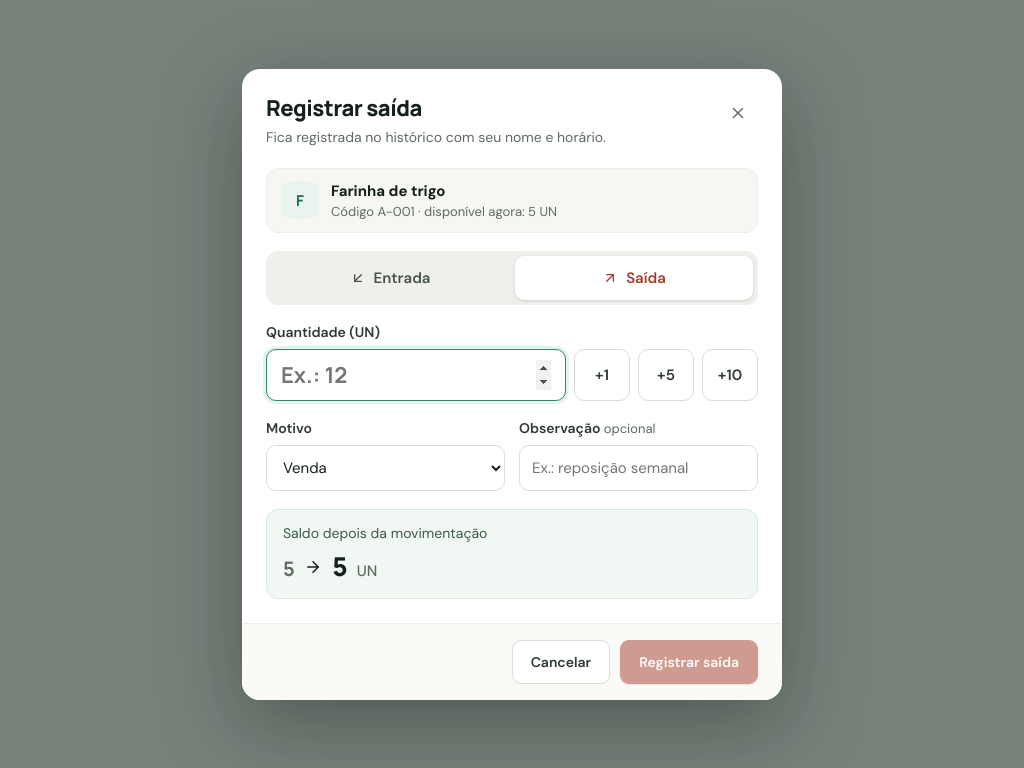
Scenario: MovementModal › mostra a prévia do saldo e bloqueia saída maior que o disponível
Type "3" into the number field labelled "Quantidade (UN) +1 +5 +10" at (416, 374), box [266, 348, 566, 400]
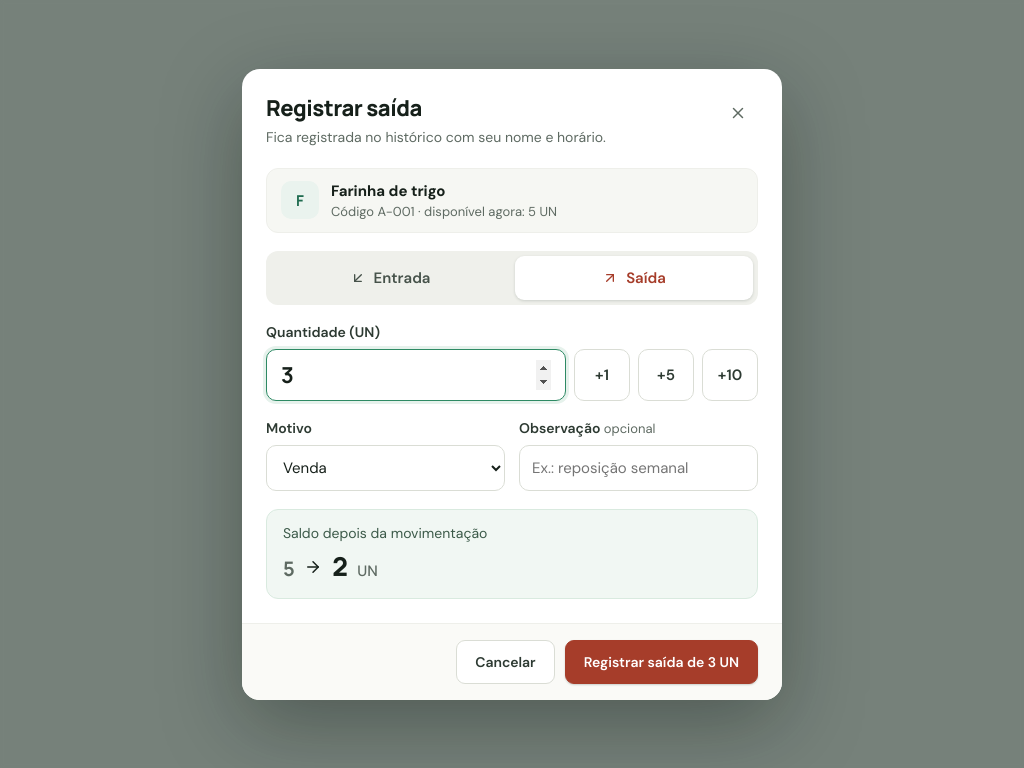
Expected: the button "Registrar saída de 3 UN" is enabled, [565, 640, 758, 684]
Replace the text in the number field labelled "Quantidade (UN) +1 +5 +10" with "8" at (416, 374), box [266, 348, 566, 400]
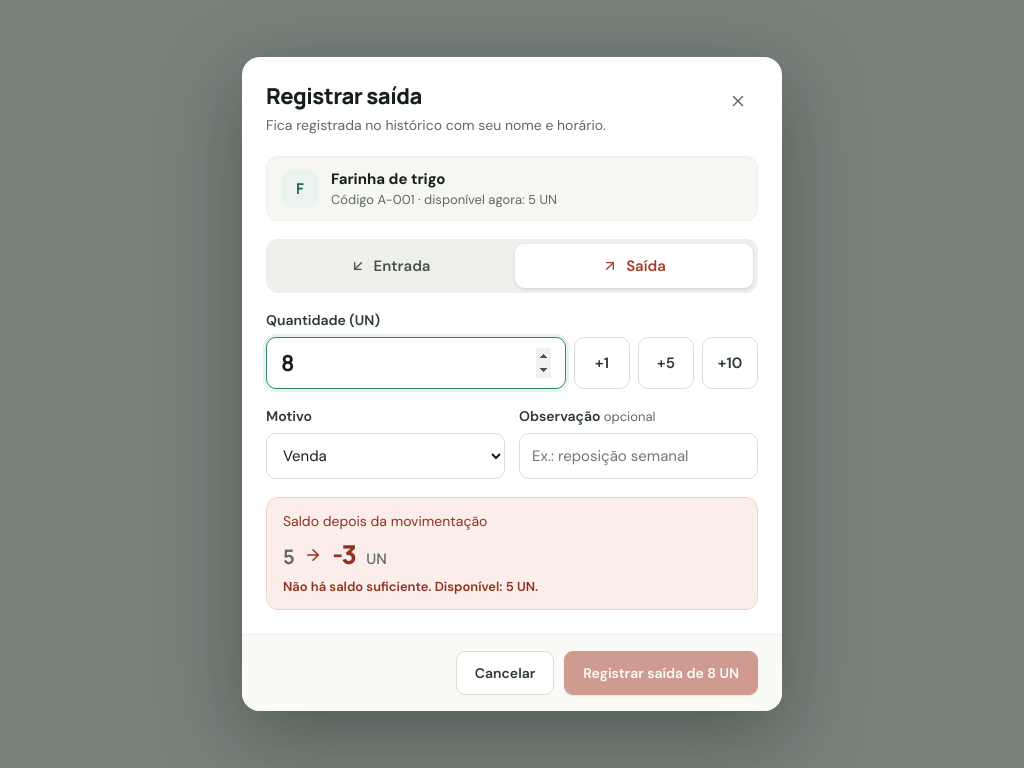
Expected: the button "Registrar saída de 8 UN" is disabled, [564, 651, 758, 695]
Expected: the text "Não há saldo suficiente. Disponível: 5 UN." is shown, [283, 578, 538, 595]
